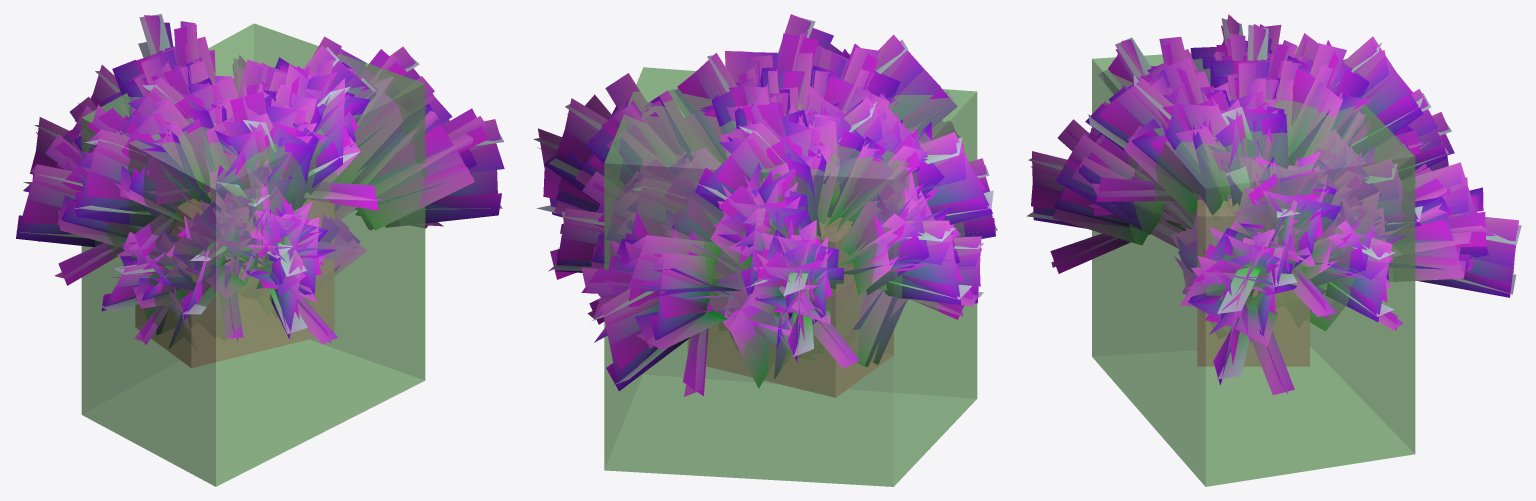
File: tall_plant_bush.dae
The picture shows the model from 3 angles, left to right: view 1: azimuth 30°, elevation 25°; view 2: azimuth 150°, elevation 25°; view 3: azimuth 270°, elevation 25°; orthographic projection. The views are drawn at different scales.
Parts seen in each view (by area): view 1: Colmesh-1, tall_plant_bush_a1500, tall_plant_bush_a320; view 2: Colmesh-1, tall_plant_bush_a320, tall_plant_bush_a1500; view 3: Colmesh-1, tall_plant_bush_a1500, tall_plant_bush_a320.
Part boxes in pixels (left/top/right/bottom): Colmesh-1: left=81, top=23, right=425, bottom=486; tall_plant_bush_a1500: left=16, top=15, right=504, bottom=348; tall_plant_bush_a320: left=16, top=14, right=503, bottom=344; Colmesh-1: left=604, top=67, right=977, bottom=486; tall_plant_bush_a320: left=533, top=15, right=997, bottom=396; tall_plant_bush_a1500: left=537, top=14, right=995, bottom=390; Colmesh-1: left=1092, top=46, right=1415, bottom=486; tall_plant_bush_a1500: left=1031, top=14, right=1518, bottom=385; tall_plant_bush_a320: left=1027, top=14, right=1521, bottom=395.
Bounding box in the file's own units: 9.87 × 9.39 × 7.5.
